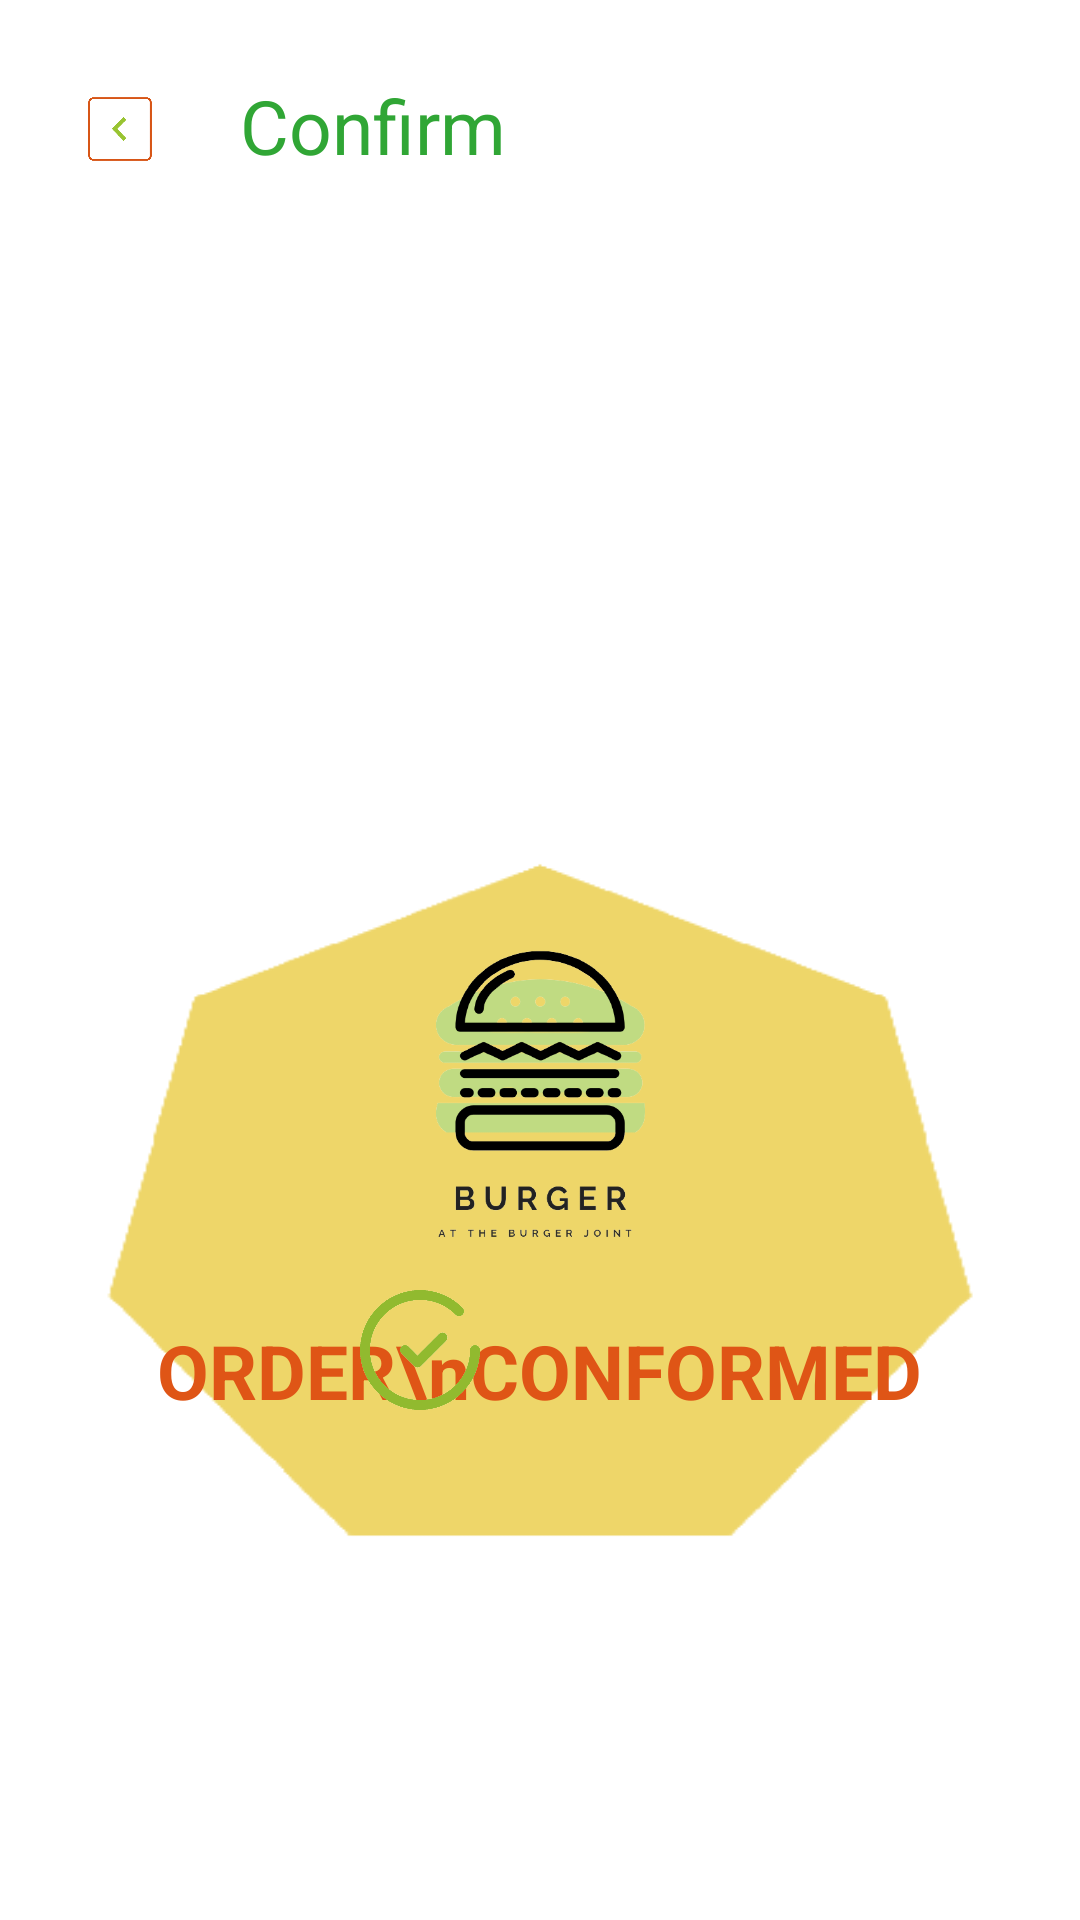

Point at icon controls on the screen. Image size 1080px×1920px, points as [x,y].
back: [120,129]
confirmation: [420,1350]
